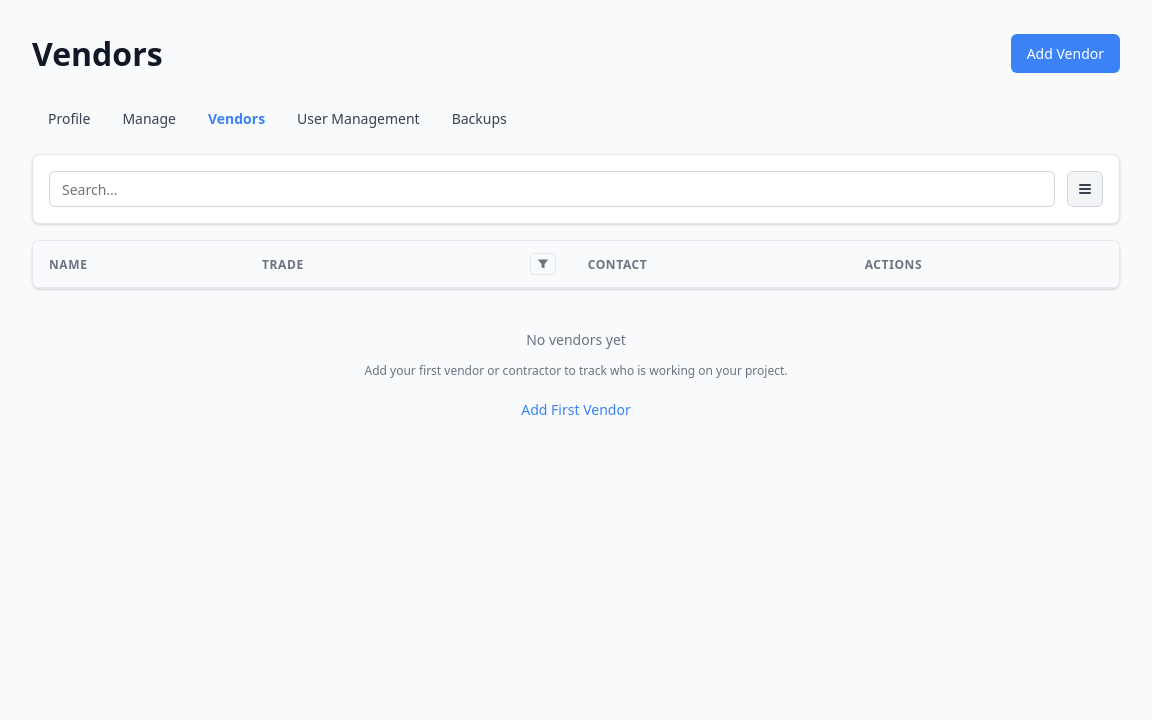
VendorsPage › create vendor modal › opens create modal when "Add Vendor" button is clicked
Click the button with test id "new-vendor-button" at coordinates (1065, 54), box [1011,34,1120,73]
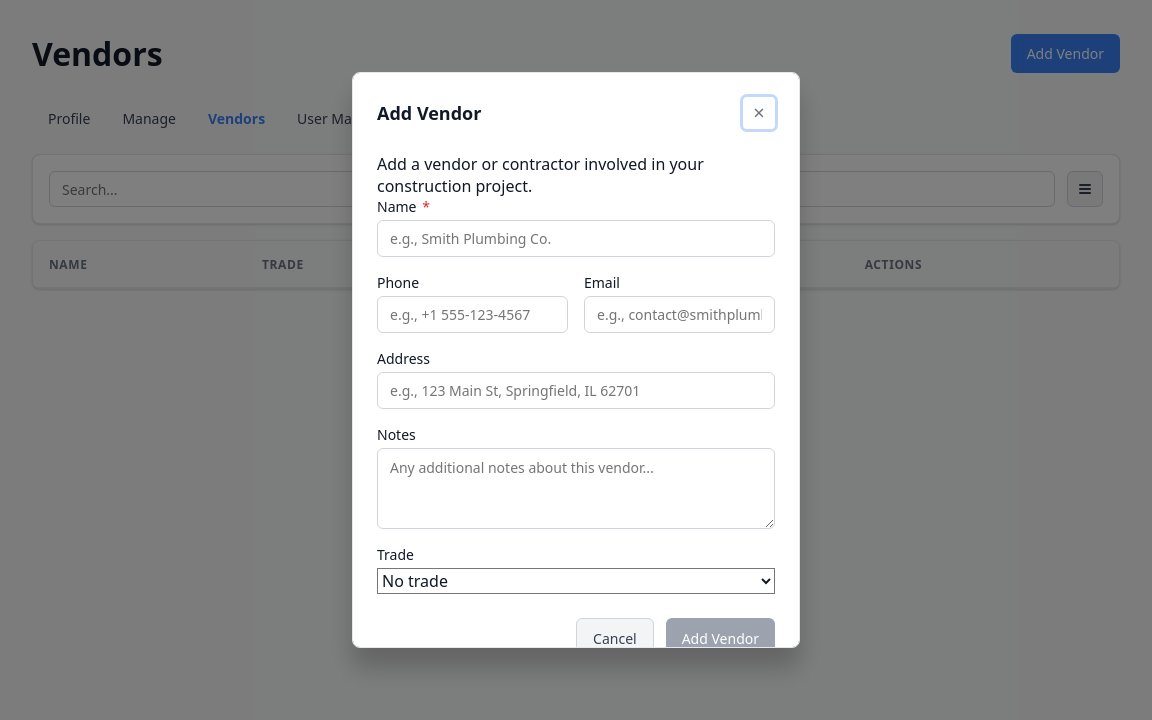
expect the field labelled "Name *" is shown: met, box [377,220,775,257]
